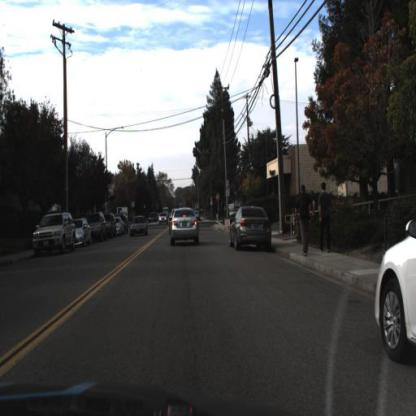car: (377, 209, 416, 366), (229, 204, 272, 249), (31, 212, 75, 253), (171, 207, 201, 243), (74, 218, 95, 249), (94, 208, 110, 246), (127, 214, 150, 240), (91, 210, 109, 242)
pedestrian: (293, 184, 314, 256), (318, 183, 331, 256)
